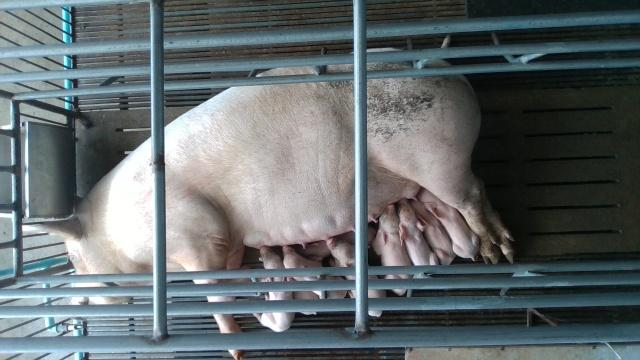piglet: (326, 236, 387, 317), (419, 184, 481, 260), (372, 204, 413, 298), (251, 246, 295, 333), (283, 244, 348, 300), (407, 198, 457, 266), (398, 197, 440, 266), (294, 239, 321, 315)
sow-sleep-lactate: (34, 46, 515, 360)
